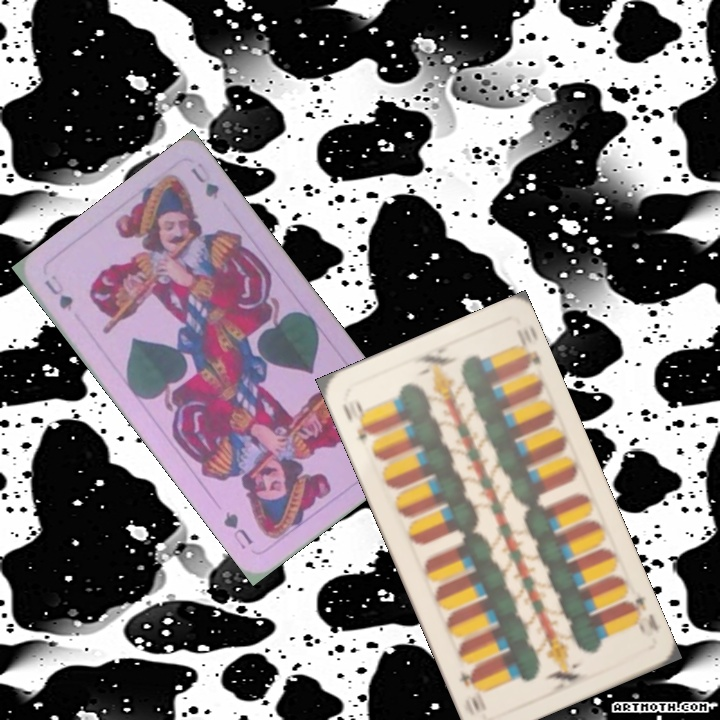E10: (620, 592, 661, 640), (338, 394, 377, 443)
GU: (40, 270, 76, 315)
